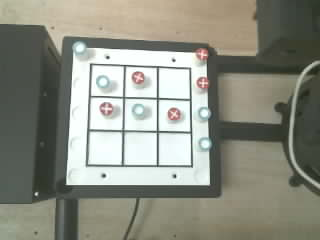blue circle: (72, 41, 87, 55), (198, 107, 212, 120), (96, 75, 109, 88), (199, 137, 211, 150), (132, 104, 144, 116)
board: (67, 42, 212, 185)
cells: (124, 132, 156, 165), (88, 132, 121, 164), (159, 133, 191, 165), (89, 98, 122, 129), (91, 65, 123, 96), (159, 100, 190, 131), (159, 68, 190, 98), (125, 67, 156, 97), (132, 103, 144, 118)
grid: (86, 64, 192, 167)
red cross: (132, 71, 145, 85), (99, 102, 113, 115), (167, 107, 180, 120), (196, 48, 208, 60), (196, 77, 209, 88)
